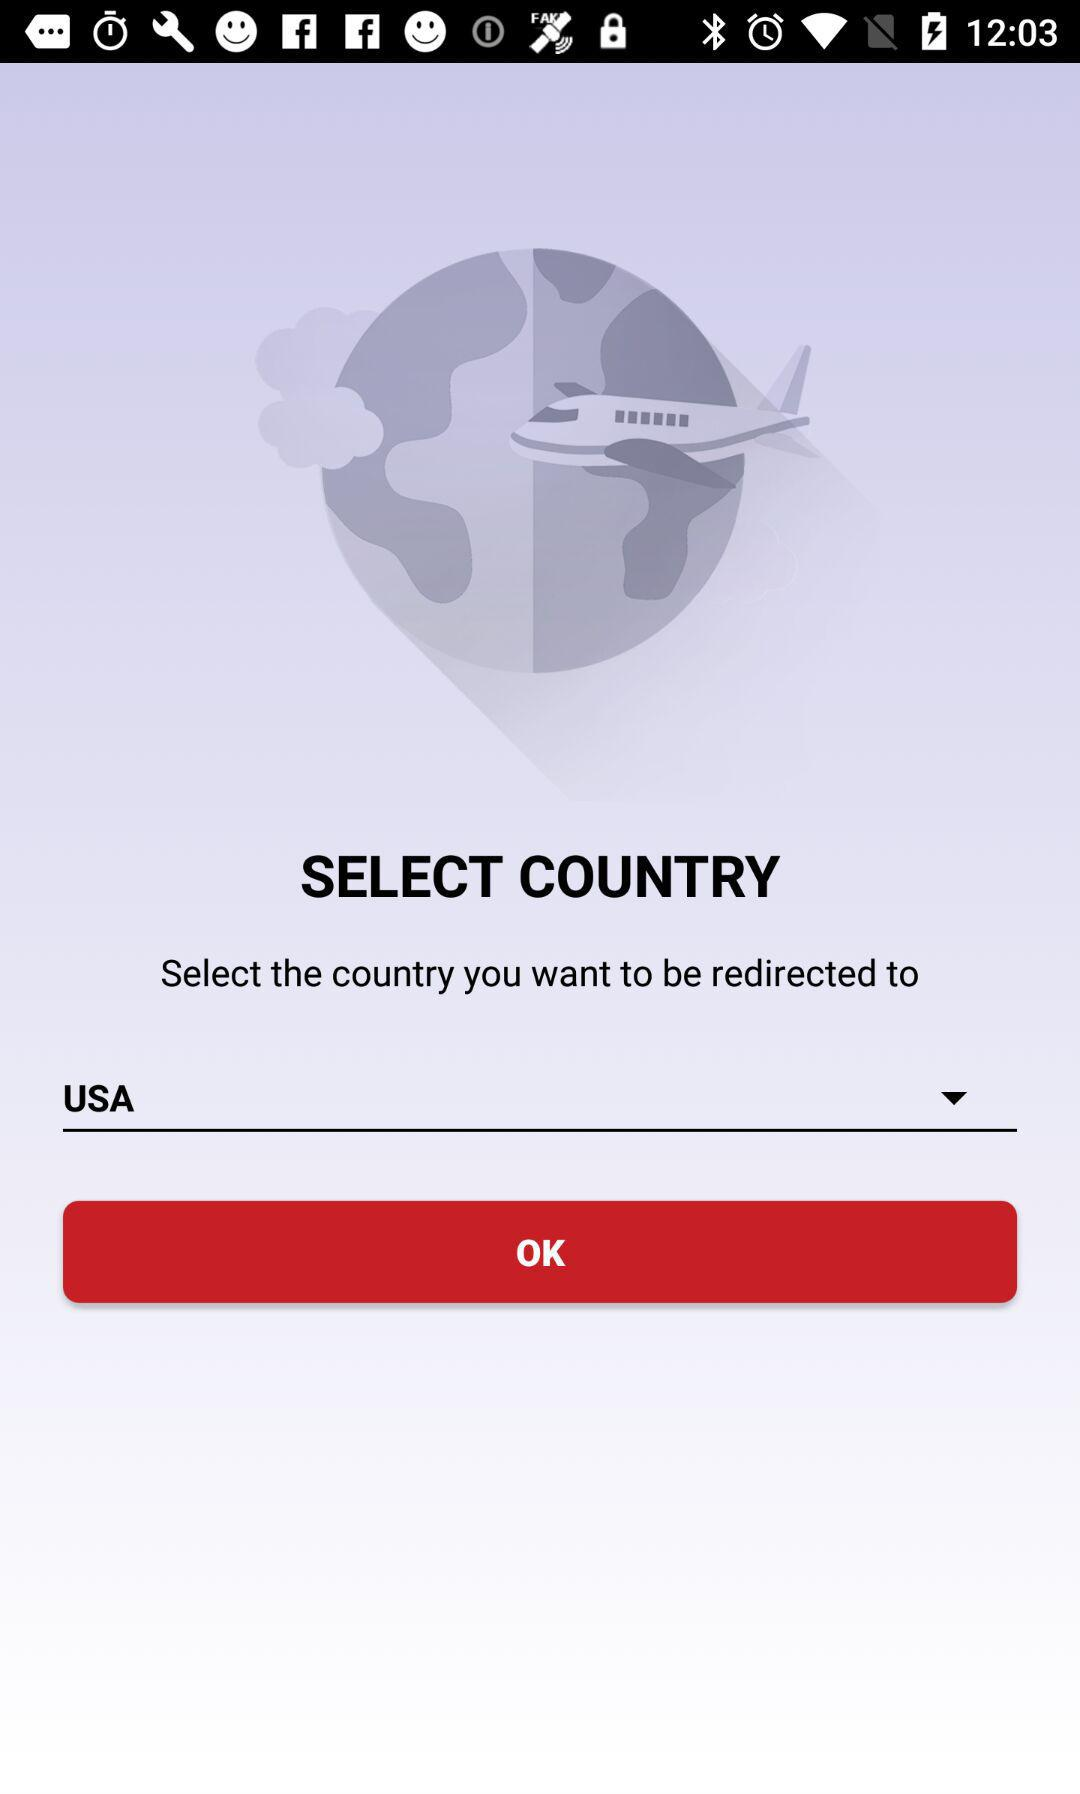EditText: (63, 1082, 1019, 1134)
Icon: (942, 1090, 969, 1106)
Image: (258, 247, 828, 677)
Text: (161, 957, 920, 996), (301, 853, 781, 900), (65, 1084, 136, 1114)
TextButton: (63, 1199, 1019, 1304)
UpperTaskBar: (1, 1, 1080, 64)
